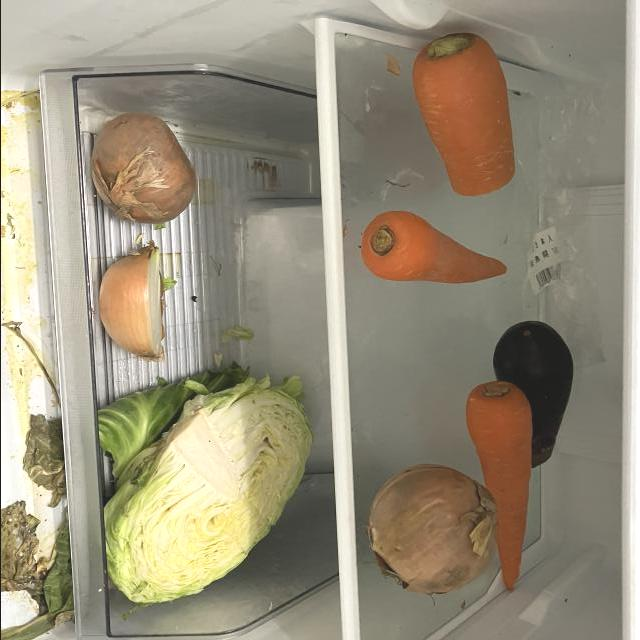cabbage: (103, 373, 315, 609)
carrot: (406, 31, 518, 199), (461, 380, 534, 598), (356, 207, 512, 289)
eggplant: (489, 318, 575, 474)
onion: (362, 462, 498, 600), (84, 111, 200, 229), (97, 240, 167, 365)
